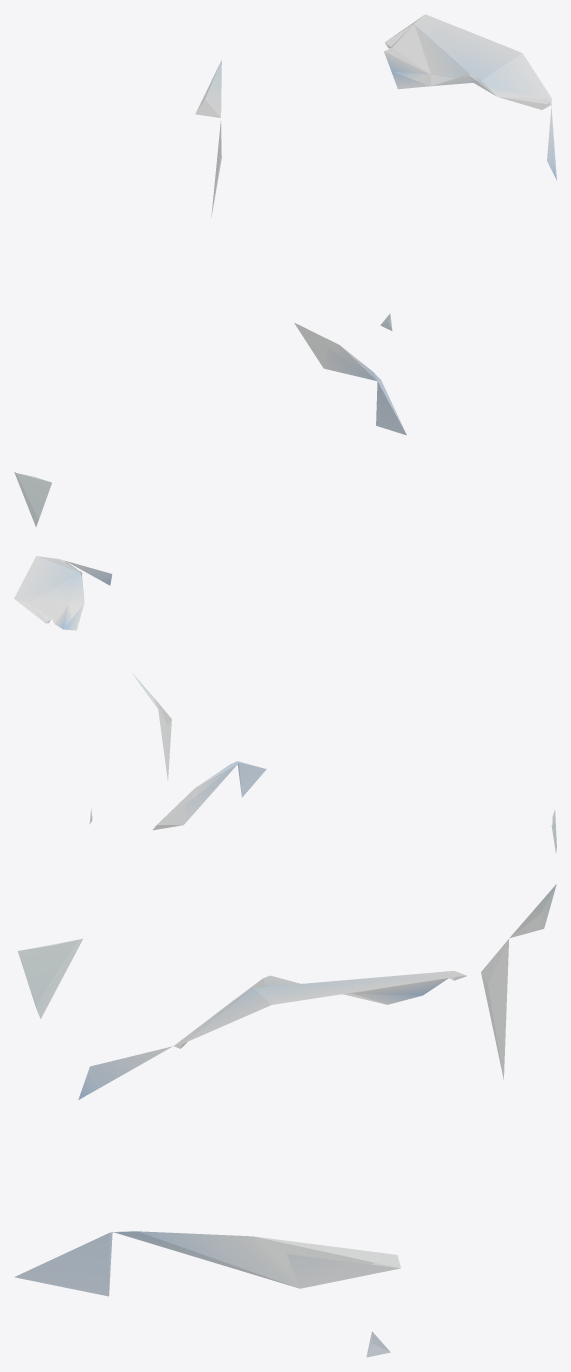
3 views of the same model, one above another, from view 1: azimuth 30°, elevation 25°; view 2: azimuth 150°, elevation 25°; view 3: azimuth 270°, elevation 25° (orthographic). The views are drawn at different scales.
Bounding box in the file's own units: 6.53 × 3.15 × 3.48.
